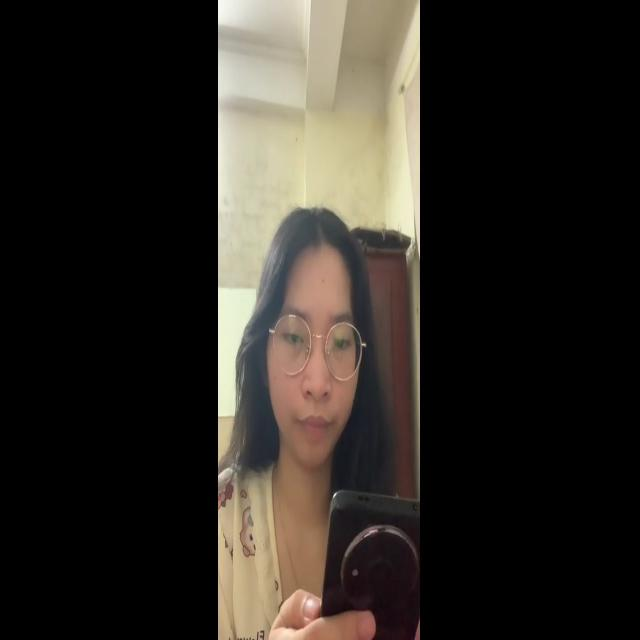phone: (316, 465, 418, 639)
student: (248, 198, 362, 478)
